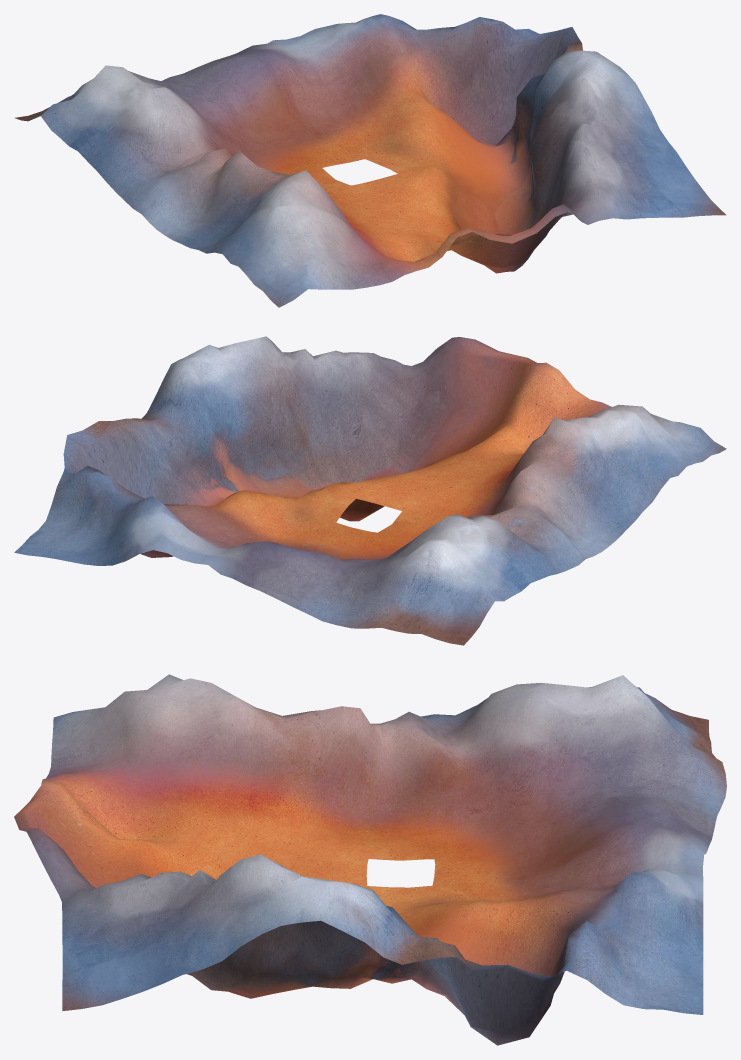
File: RaisedTerrain.fbx
3 views of the same model, one above another, from view 1: azimuth 30°, elevation 25°; view 2: azimuth 150°, elevation 25°; view 3: azimuth 270°, elevation 25° (orthographic). The views are drawn at different scales.
Parts seen in each view (by area): view 1: RaisedTerrain; view 2: RaisedTerrain; view 3: RaisedTerrain.
Part boxes in pixels (x1,y1,x2,y2): RaisedTerrain: (15, 14, 726, 307); RaisedTerrain: (14, 336, 726, 645); RaisedTerrain: (14, 674, 726, 1045).
Bounding box in the file's own units: 5872 × 5628 × 1804.
Materials: 1 (1 with a texture image).
